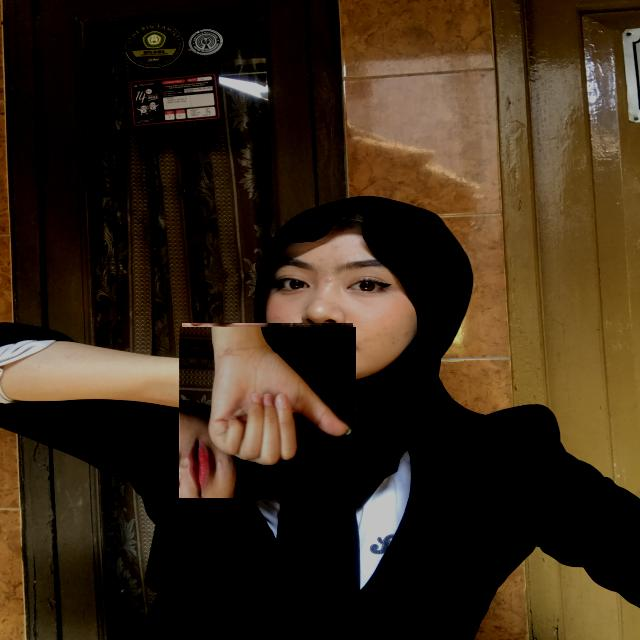sedih: (180, 325, 355, 500)
